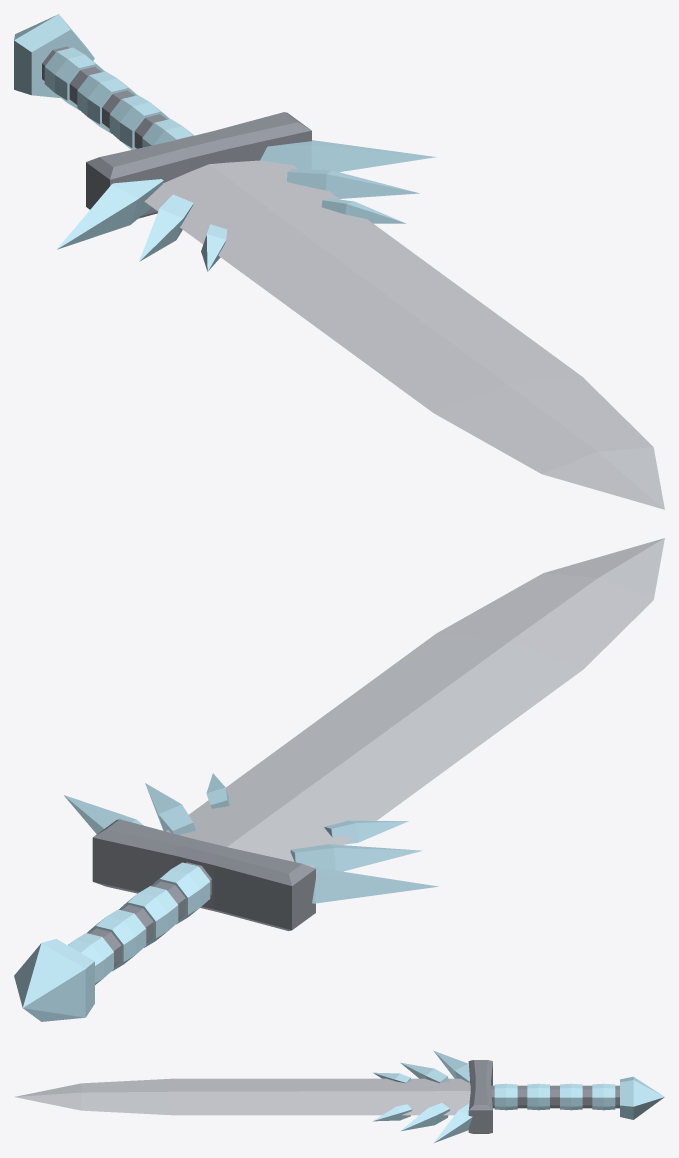
File: frostbrand.glb
3 views of the same model, one above another, from view 1: azimuth 30°, elevation 25°; view 2: azimuth 150°, elevation 25°; view 3: azimuth 270°, elevation 25° (orthographic). The views are drawn at different scales.
Visible parts, largest first — view 1: frostbrand; view 2: frostbrand; view 3: frostbrand.
Part boxes in pixels (left/top/right/bottom): frostbrand: left=14, top=14, right=664, bottom=509; frostbrand: left=14, top=538, right=664, bottom=1021; frostbrand: left=15, top=1050, right=664, bottom=1143.
Size of the model in its own units: 0.4905 by 0.0984 by 1.45.
